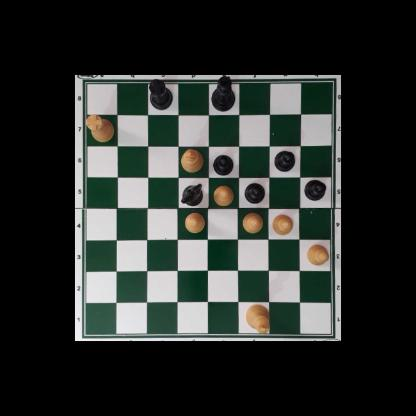black-king: (211, 75, 236, 113)
black-knight: (181, 182, 204, 206)
black-pawn: (303, 179, 326, 201), (274, 149, 295, 171), (212, 154, 234, 175), (245, 181, 265, 204)
black-rook: (147, 80, 173, 107)
white-bishop: (180, 147, 204, 173)
white-king: (245, 303, 269, 334)
white-pawn: (271, 212, 293, 236), (306, 244, 329, 265), (211, 184, 234, 205), (242, 212, 263, 234), (184, 212, 205, 233)
white-rook: (85, 115, 114, 141)
